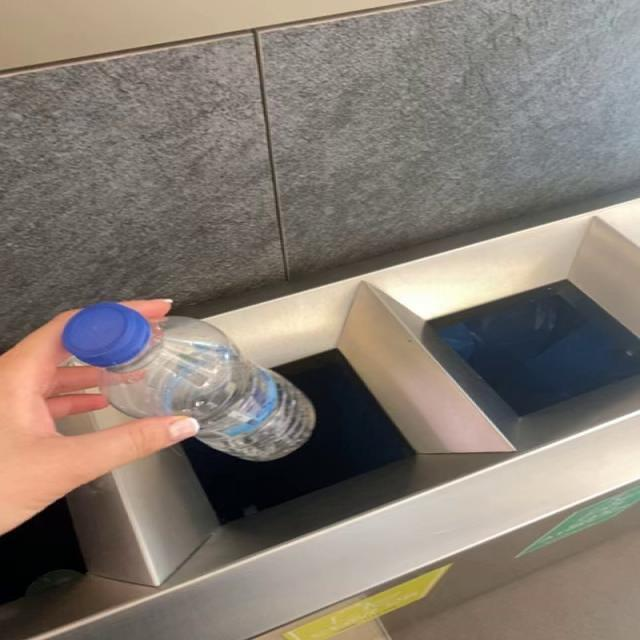Plastic: (61, 303, 315, 462)
